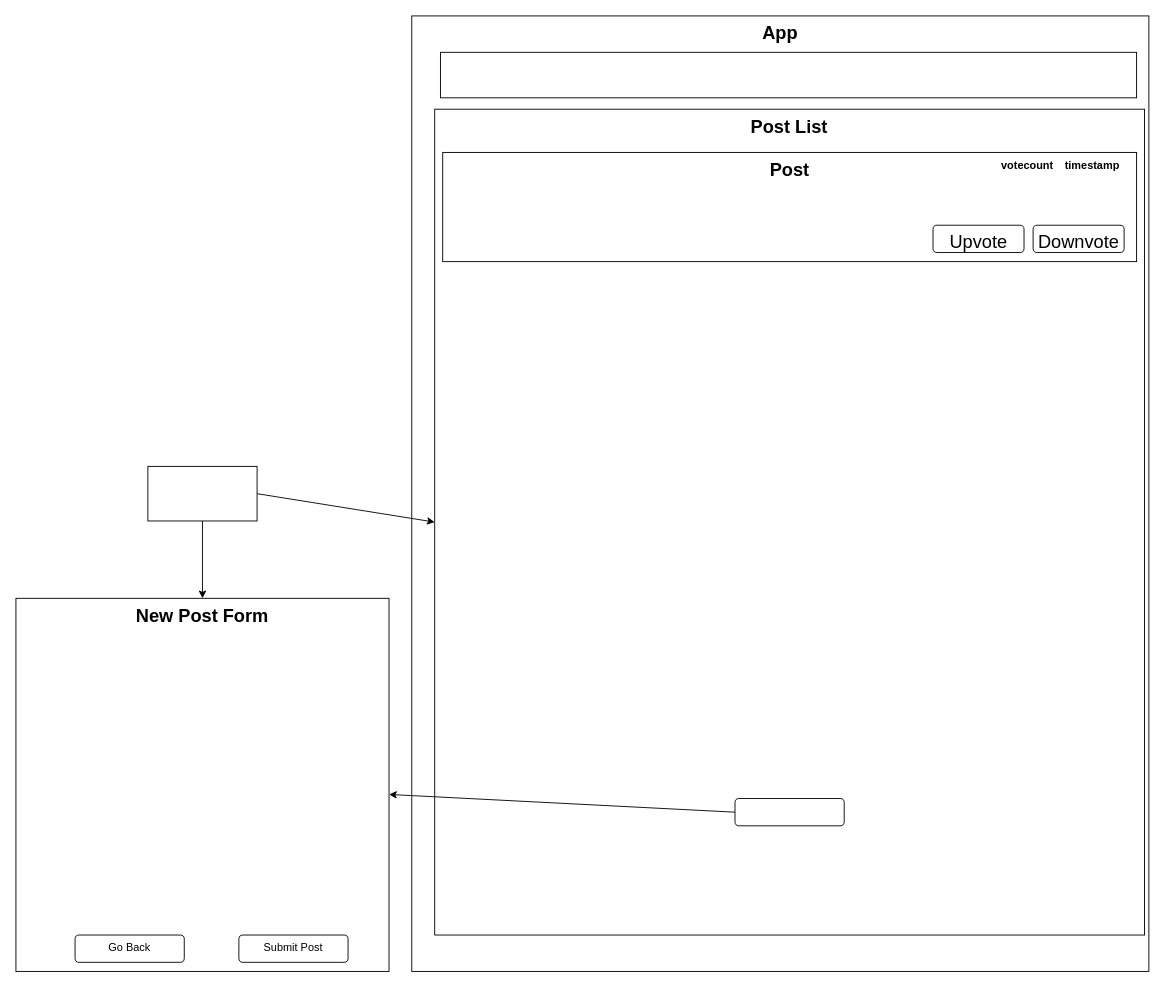
This 1165x987 diagram has some shape labels left out. Each missing label, with the centre of its shape:
"Header" belongs at (x=788, y=74).
"Make New Post" belongs at (x=789, y=812).
"Post Control" belongs at (x=202, y=493).
